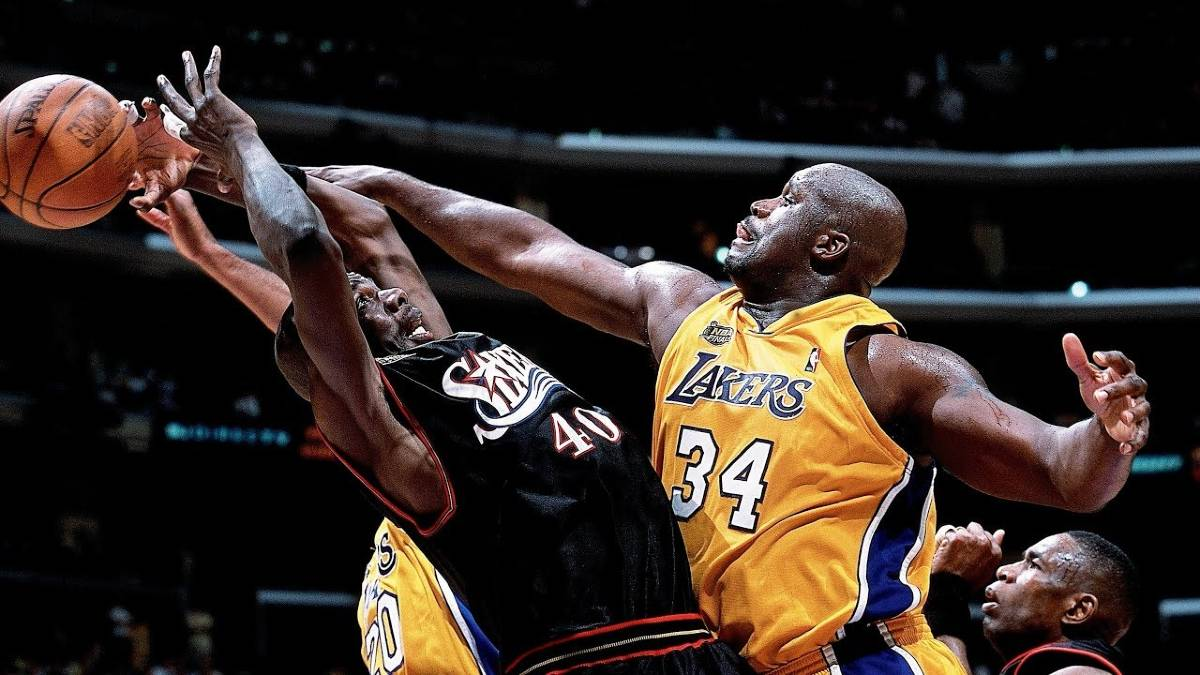b_ball: (1, 73, 128, 228)
face: (715, 146, 920, 310), (988, 529, 1147, 646), (256, 274, 432, 367)
player: (576, 144, 1182, 675), (150, 216, 714, 675)
